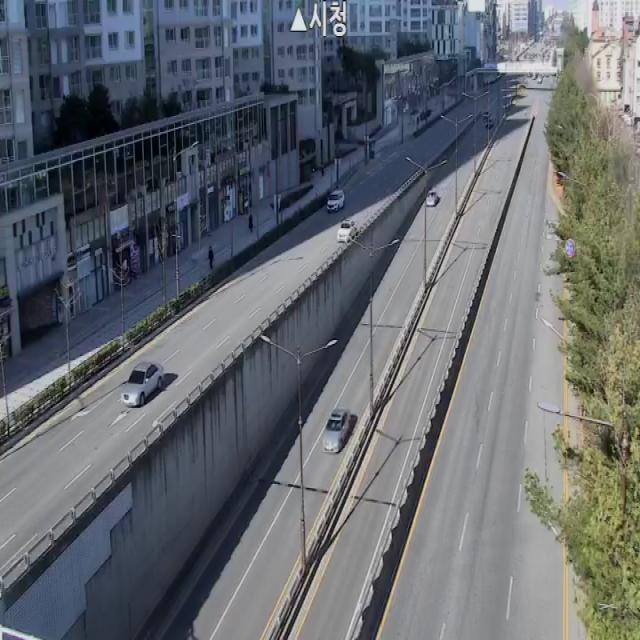Car: (121, 362, 164, 406), (321, 409, 351, 454), (337, 218, 358, 243), (327, 190, 345, 213), (426, 190, 438, 207)
